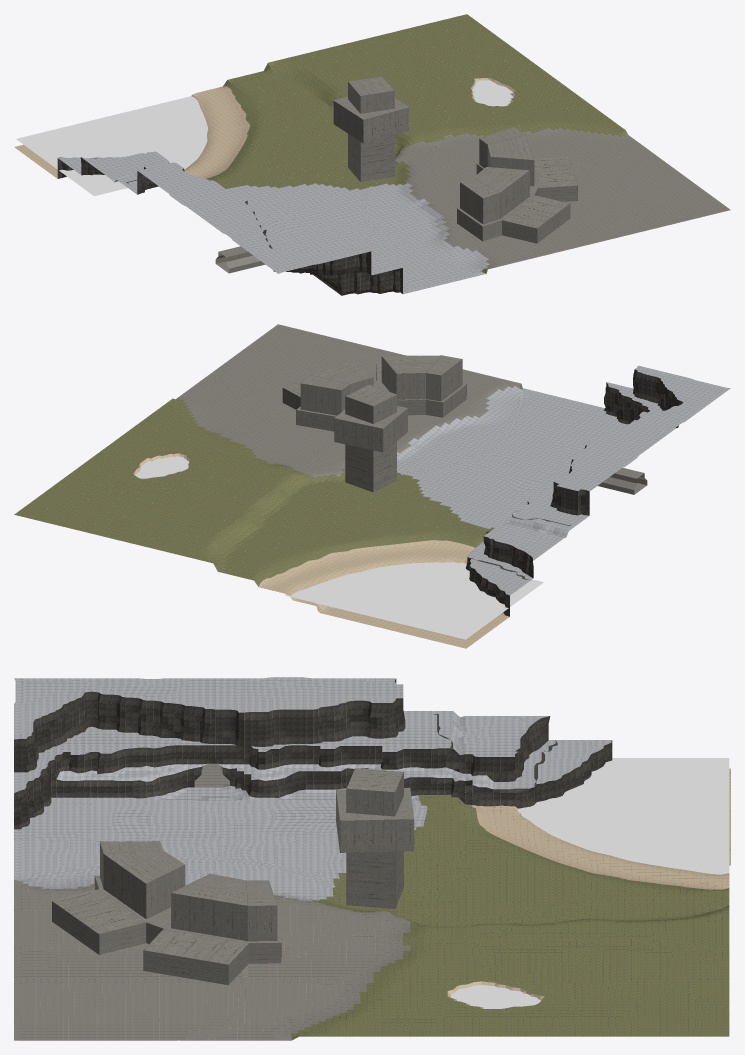
File: flat-map.fbx
The picture shows the model from 3 angles, top to bottom: view 1: azimuth 30°, elevation 25°; view 2: azimuth 150°, elevation 25°; view 3: azimuth 270°, elevation 25°; orthographic projection. The views are drawn at different scales.
Visible parts, largest first — view 1: Snow, Forest, City, Plaine, Cube, Water, Huge, Sand, Cliff, Tunel, ForestWater; view 2: Snow, Forest, City, Plaine, Water, Cube, Sand, Huge, Cliff, Tunel, ForestWater; view 3: Snow, Forest, City, Cliff, Plaine, Cube, Water, Huge, Sand, ForestWater, Tunel.
Part boxes in pixels (x1,y1,x2,y2): Snow: (58, 151, 489, 294); Forest: (268, 14, 628, 147); City: (395, 127, 730, 269); Plaine: (207, 63, 410, 190); Cube: (457, 127, 577, 243); Water: (16, 96, 207, 196); Huge: (333, 76, 409, 181); Sand: (14, 86, 250, 178); Cliff: (57, 157, 402, 295); Tunel: (215, 246, 265, 273); ForestWater: (472, 80, 513, 106); Snow: (397, 365, 730, 595); Forest: (14, 398, 312, 563); City: (176, 324, 520, 478); Plaine: (206, 467, 494, 586); Water: (285, 562, 543, 639); Cube: (282, 355, 466, 431); Sand: (259, 540, 509, 648); Huge: (334, 384, 407, 492); Cliff: (466, 369, 682, 616); Tunel: (598, 468, 647, 494); ForestWater: (135, 456, 189, 478); Snow: (14, 677, 612, 900); Forest: (291, 905, 729, 1040); City: (14, 879, 410, 1040); Cliff: (14, 679, 612, 829); Plaine: (312, 794, 729, 926); Cube: (52, 841, 281, 985); Water: (517, 758, 729, 874); Huge: (336, 768, 414, 908); Sand: (465, 768, 730, 889); ForestWater: (451, 985, 540, 1008); Tunel: (194, 763, 229, 787).
Bounding box in the file's own units: 100 × 21.5 × 101.
